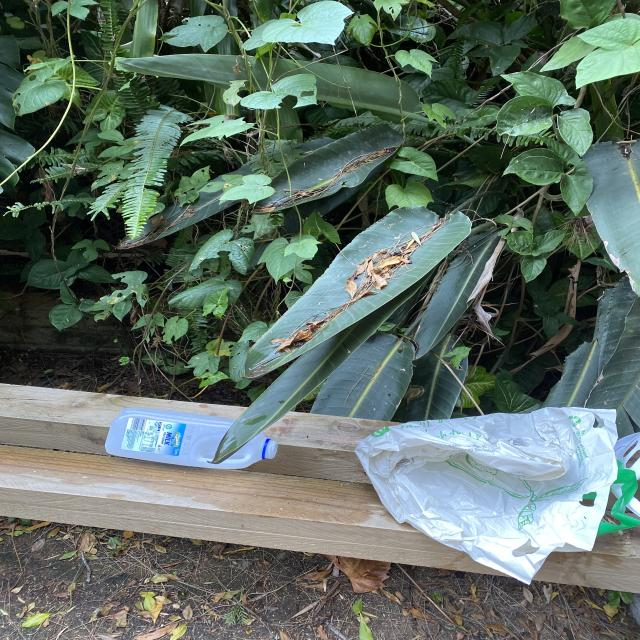bag: (354, 408, 640, 585)
bottle: (105, 408, 277, 468)
